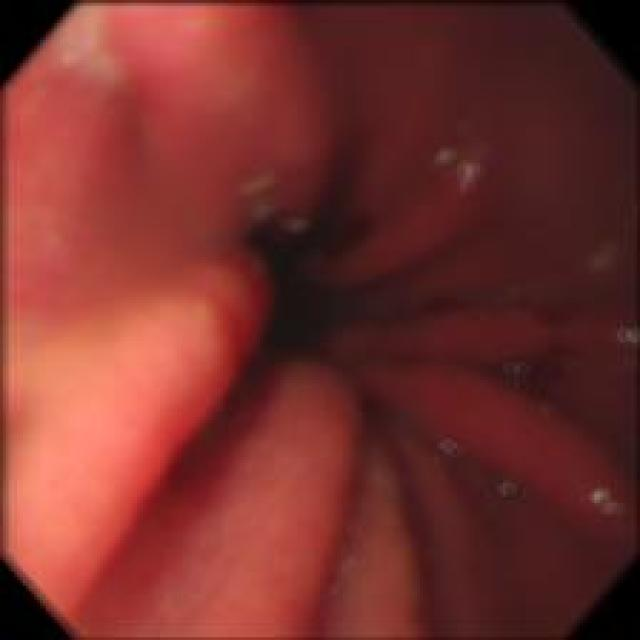blur: (1, 2, 636, 639)
color misalignment: (456, 152, 485, 189), (434, 429, 466, 461), (489, 472, 520, 502), (498, 351, 531, 379), (535, 392, 562, 422), (612, 320, 635, 349)
contrast: (321, 2, 634, 638), (245, 155, 385, 379)
